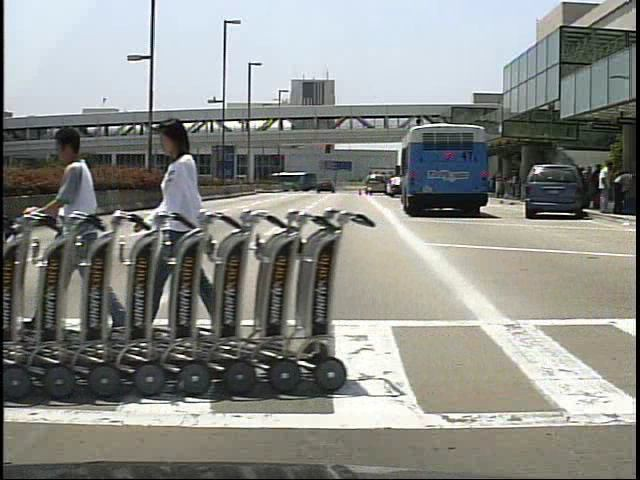person: (145, 111, 233, 351), (42, 121, 118, 340), (597, 160, 618, 216), (589, 164, 604, 214)
